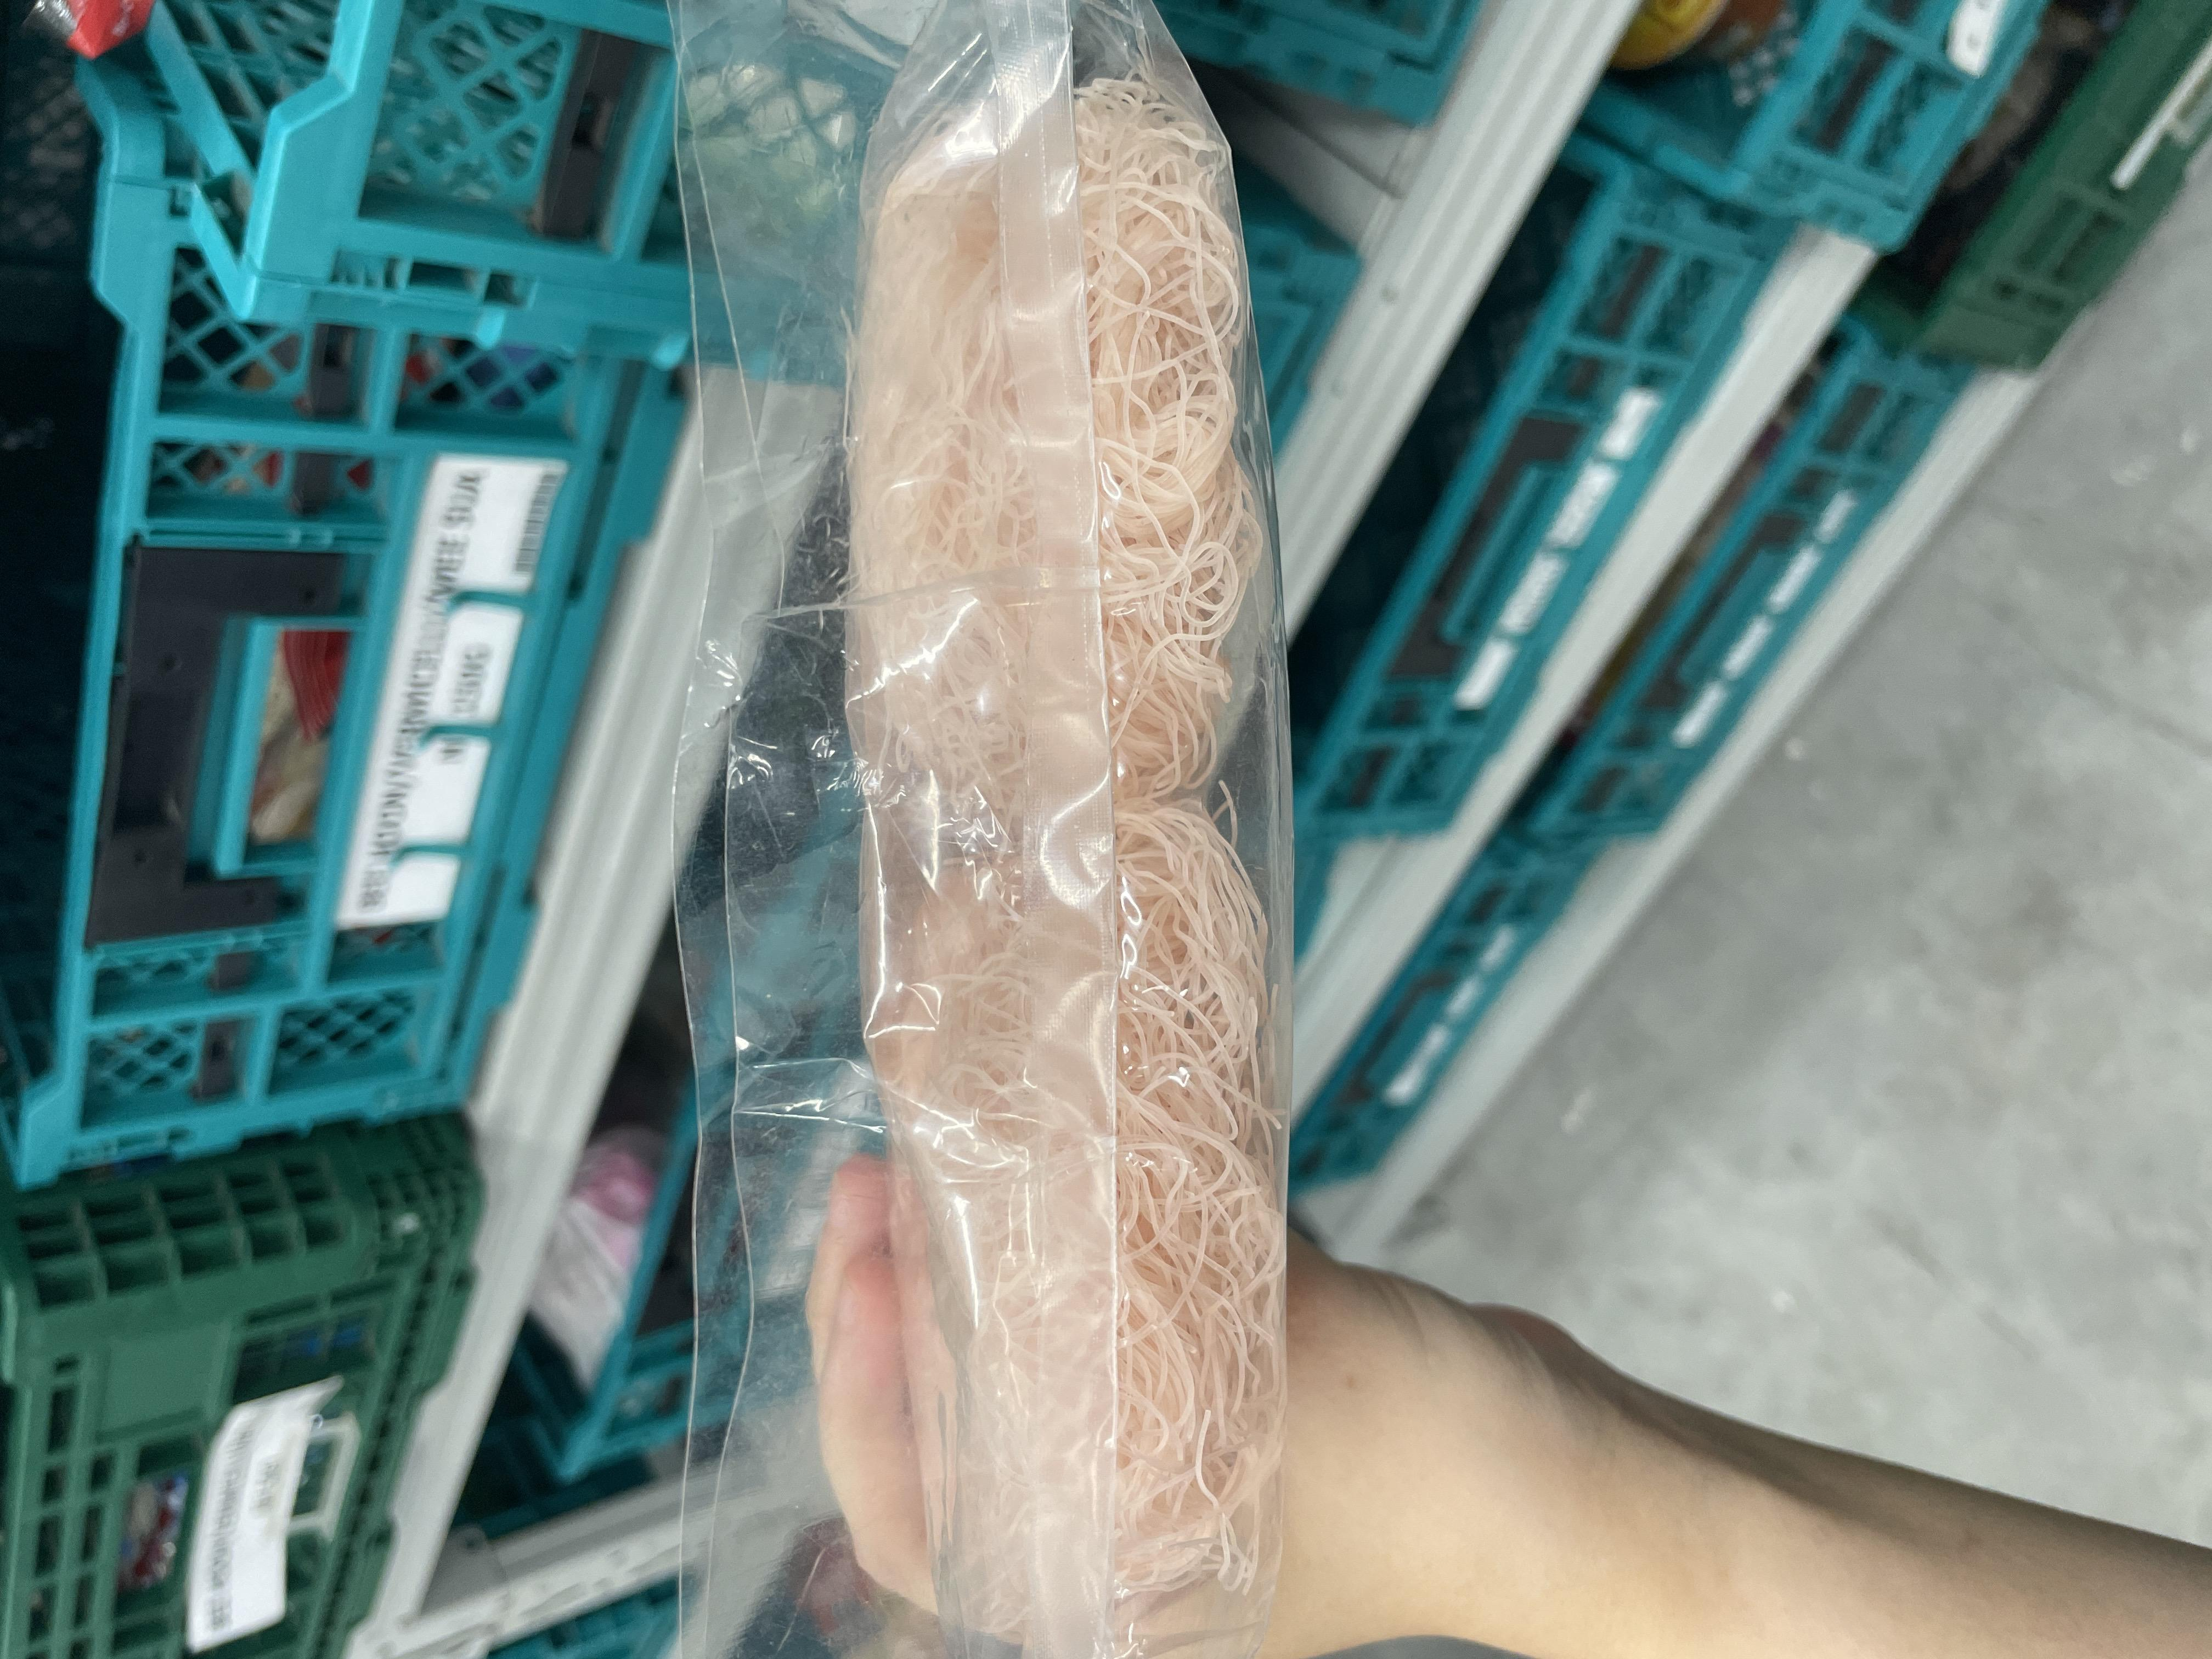object_name: (0, 795, 1635, 1239)
